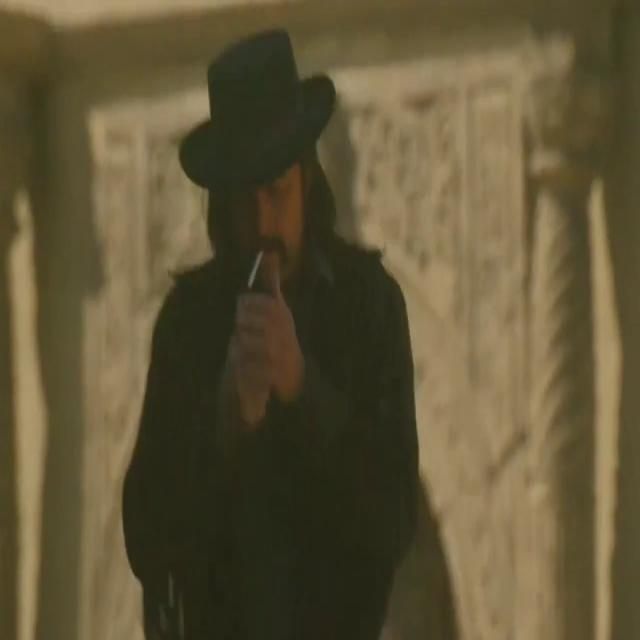Smooking: (243, 243, 268, 296)
